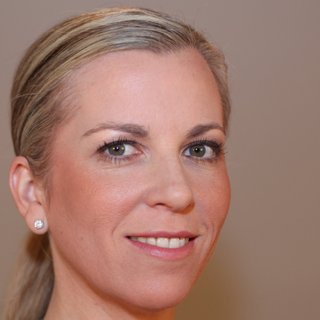eye: (90, 136, 146, 162), (176, 139, 224, 163)
